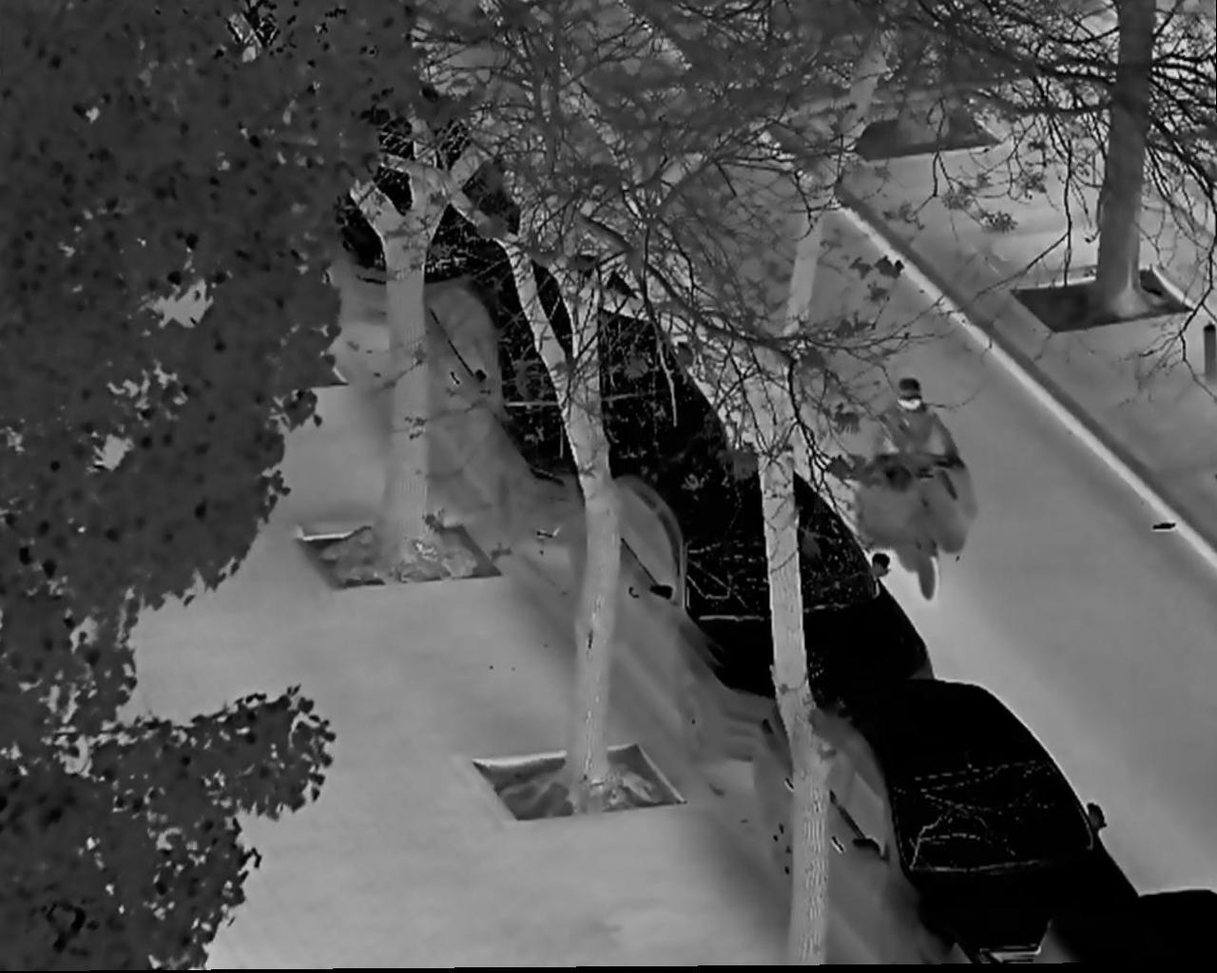person: (874, 375, 960, 544)
